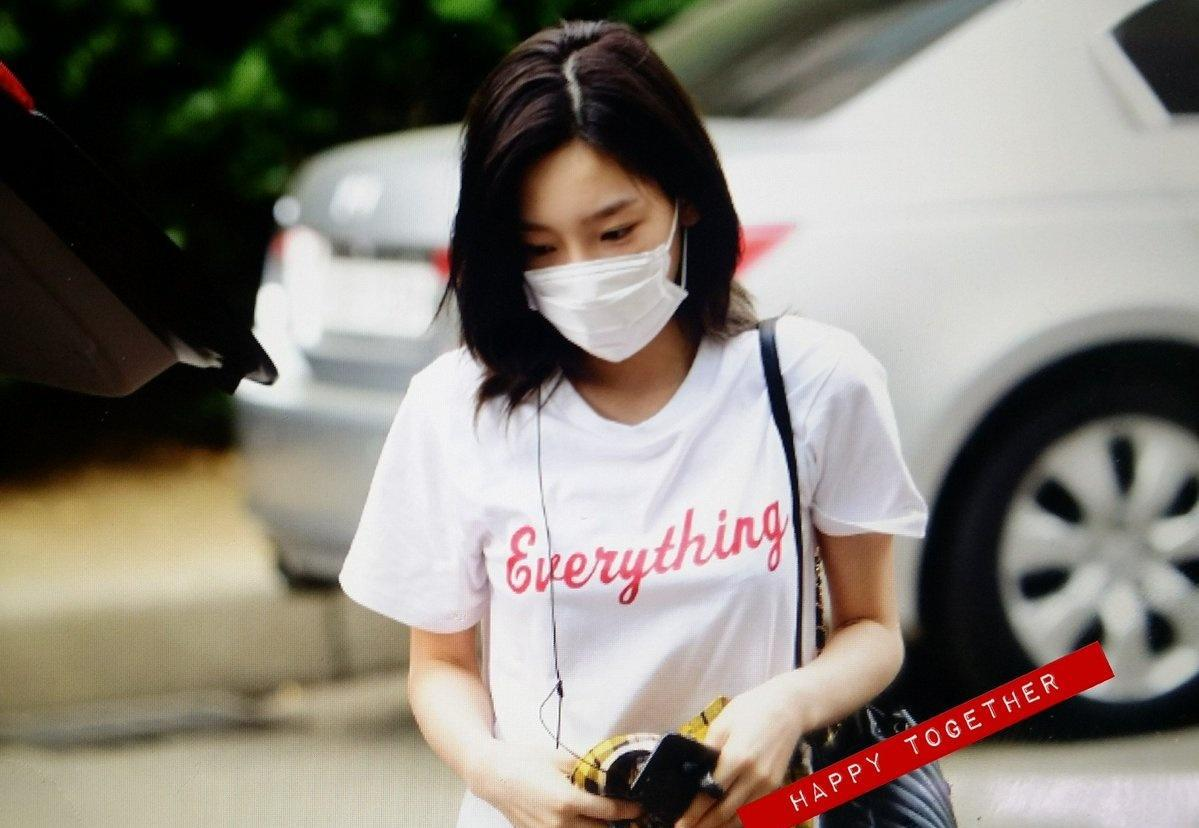OK: (513, 193, 681, 361)
